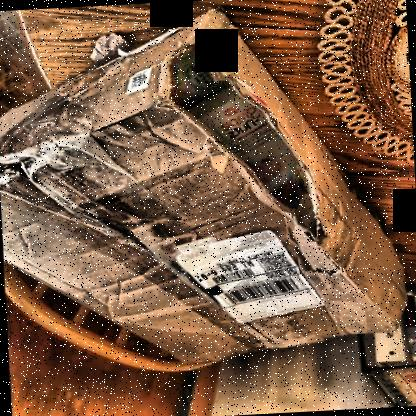defect parcel: (38, 10, 372, 290)
